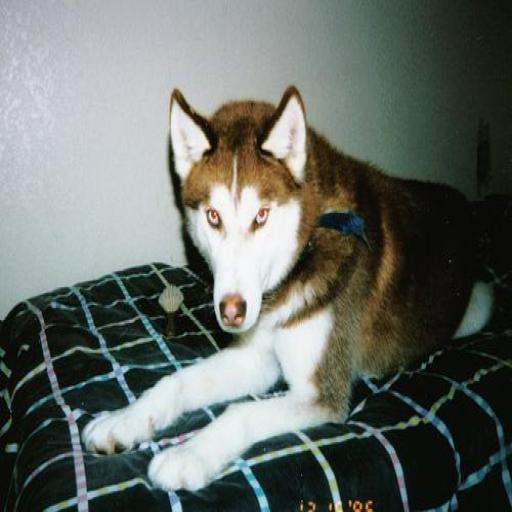dog_face: (166, 88, 302, 336)
